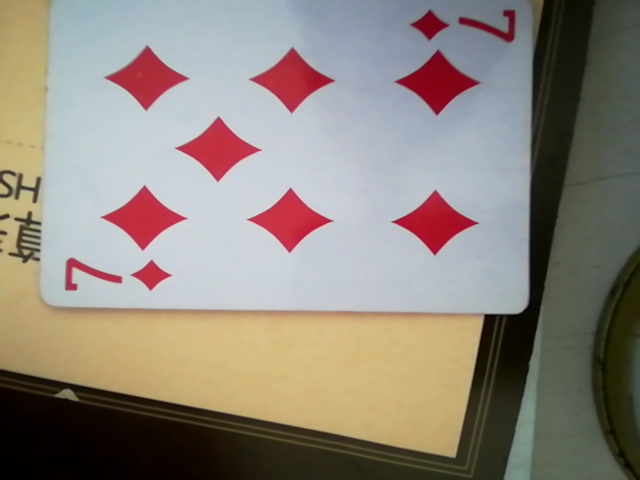fk 7: (23, 0, 537, 317)
